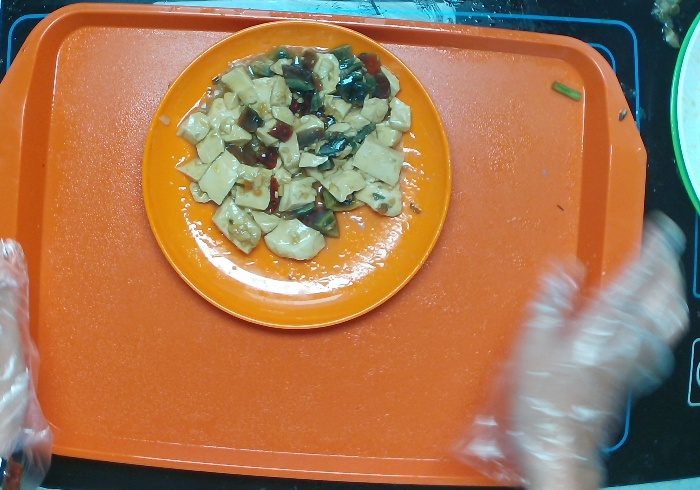HZYJPL-Ju_Huang_Yuan_Pan: (136, 18, 454, 335)
